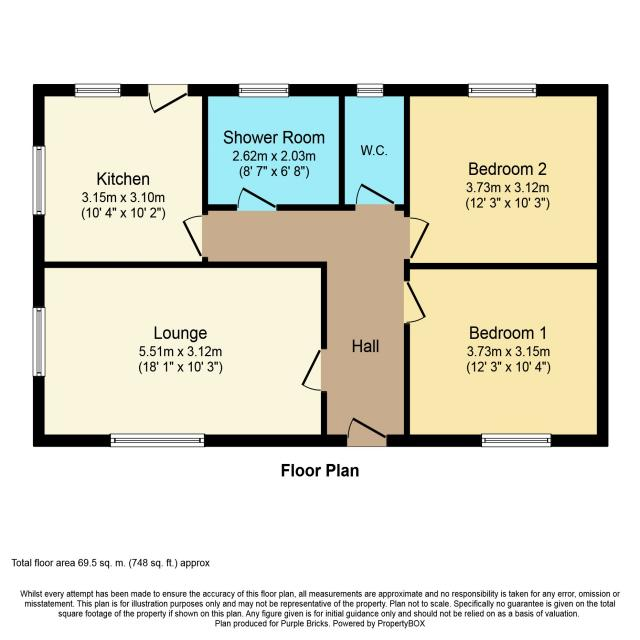DOOR: (179, 213, 209, 259), (345, 415, 388, 447), (146, 84, 189, 116), (403, 215, 432, 260), (299, 347, 327, 393), (354, 182, 396, 211), (403, 278, 428, 325), (236, 185, 278, 211)
ROOM: (32, 261, 327, 448), (404, 262, 609, 447), (404, 84, 609, 269), (33, 84, 208, 268)
WINDOW: (108, 432, 206, 448), (479, 432, 553, 448), (32, 306, 47, 378), (467, 83, 538, 98), (32, 145, 46, 216), (237, 83, 290, 98), (74, 83, 122, 98), (356, 83, 384, 98)
